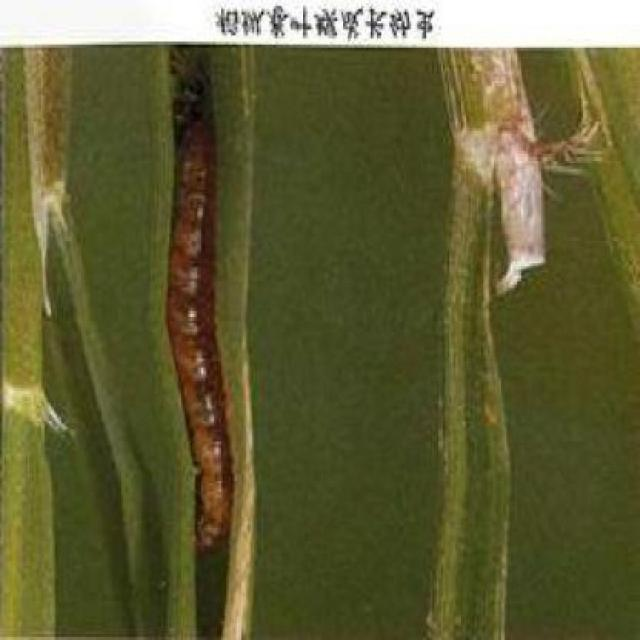leaf-folder: (137, 92, 251, 556)
